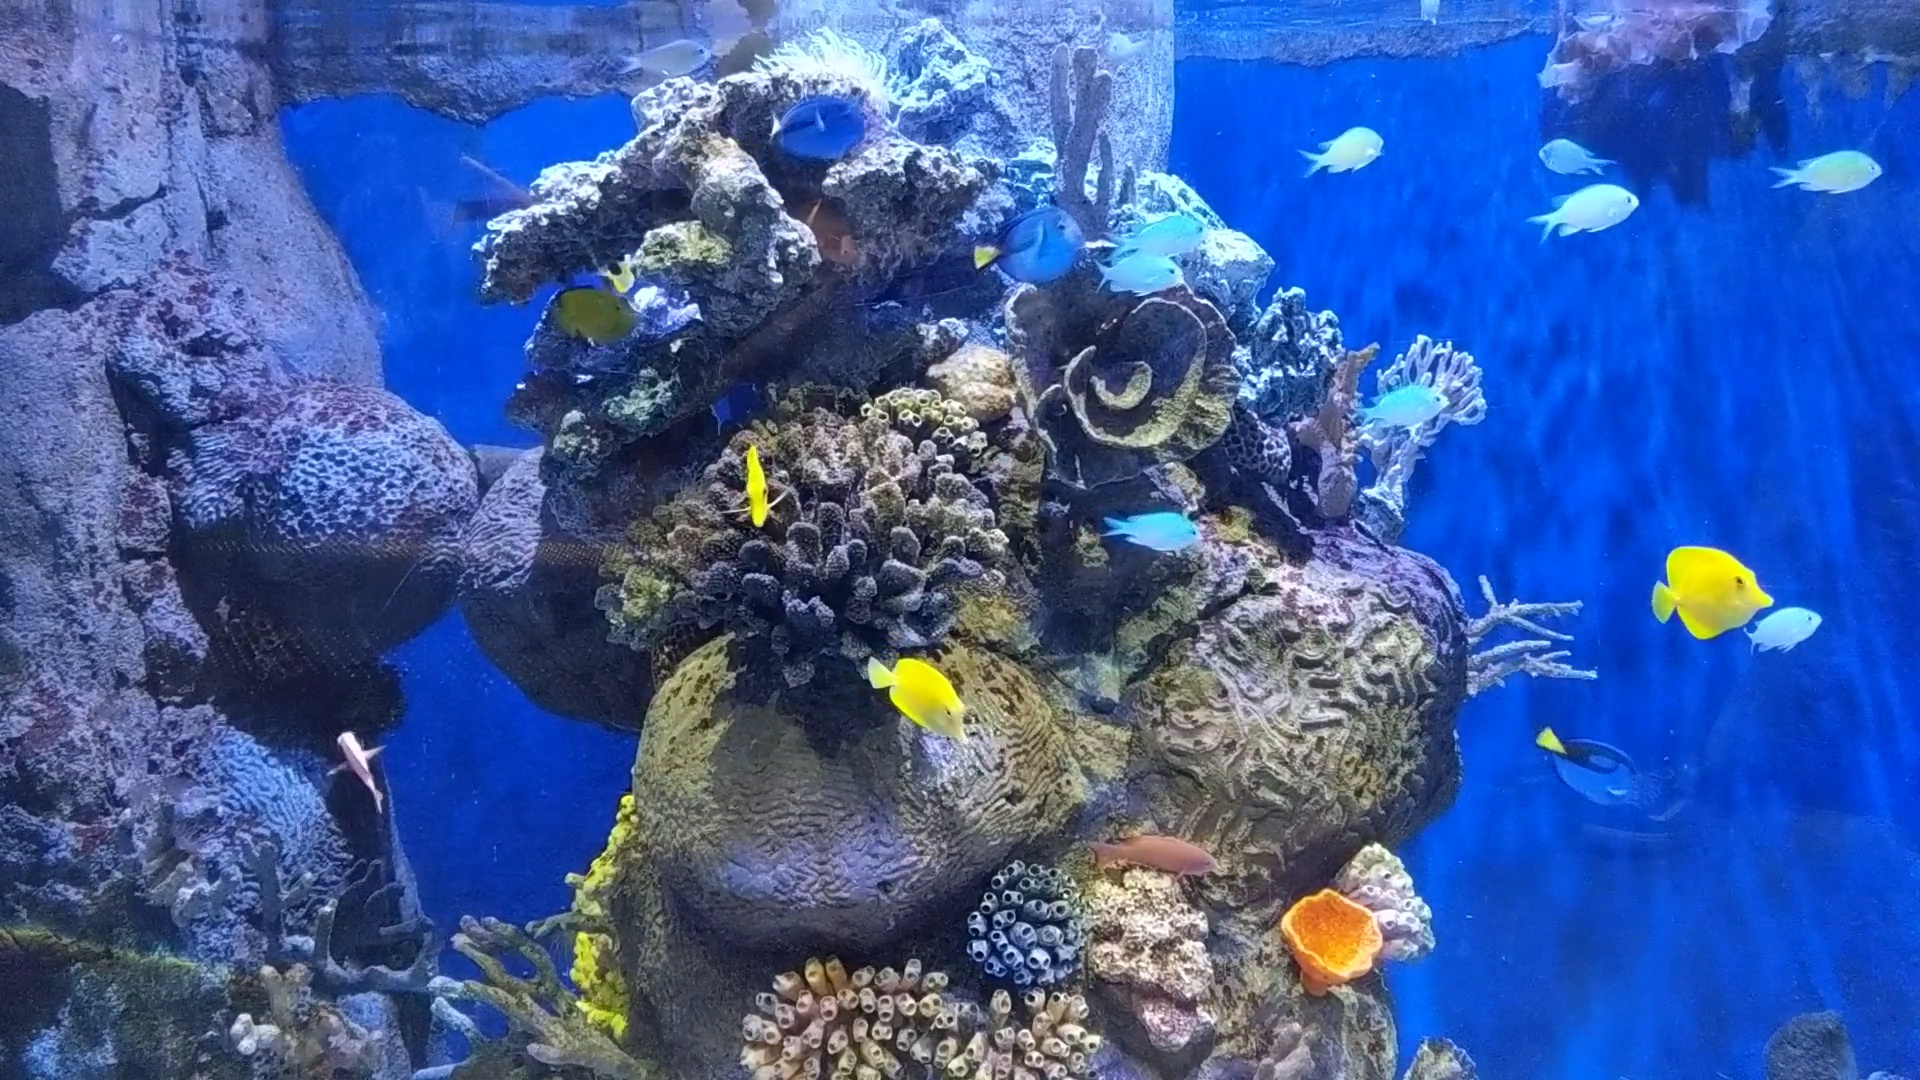blue tang surgeonfish: (1532, 713, 1644, 806), (967, 204, 1088, 282), (765, 98, 866, 157)
damselfish: (1766, 145, 1884, 202), (1527, 185, 1644, 237), (1302, 119, 1389, 183), (1353, 376, 1451, 426), (1121, 207, 1205, 264), (609, 32, 716, 75), (1088, 512, 1209, 549), (1100, 255, 1192, 301), (1530, 131, 1615, 179), (1749, 603, 1818, 659), (1105, 28, 1156, 62)
saddle butterfly fish: (1647, 542, 1774, 641), (866, 641, 971, 742), (546, 290, 650, 349), (733, 440, 783, 542)
